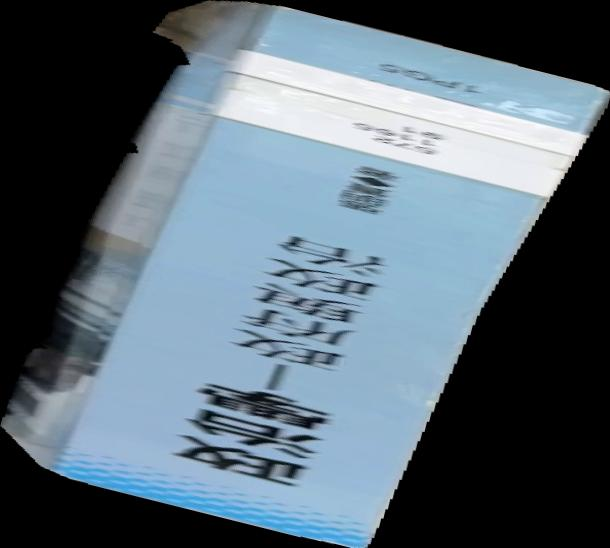reverse: (1, 1, 610, 548)
